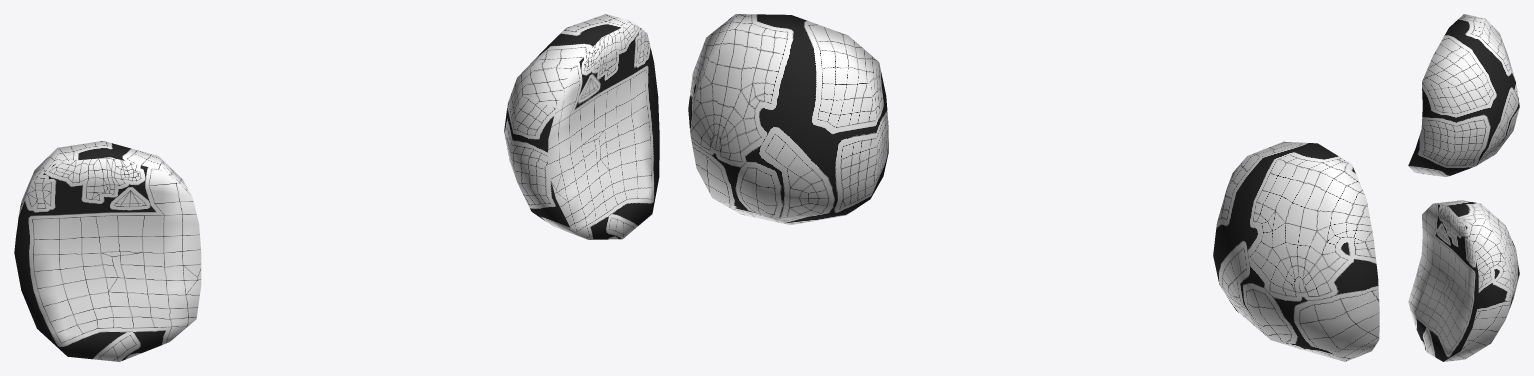
The model's file is acc_bigEars.FBX.
3 renders of one model, left to right at view 1: azimuth 30°, elevation 25°; view 2: azimuth 150°, elevation 25°; view 3: azimuth 270°, elevation 25°, orthographic. The views are drawn at different scales.
Visible parts, largest first — view 1: acc_bigEars; view 2: acc_bigEars; view 3: acc_bigEars.
Boxes of the visible parts, x1,y1,x2,y2 form: acc_bigEars: (14, 14, 659, 361); acc_bigEars: (688, 14, 1379, 361); acc_bigEars: (1408, 14, 1519, 361).
Bounding box in the file's own units: 153 × 43.69 × 30.8.
